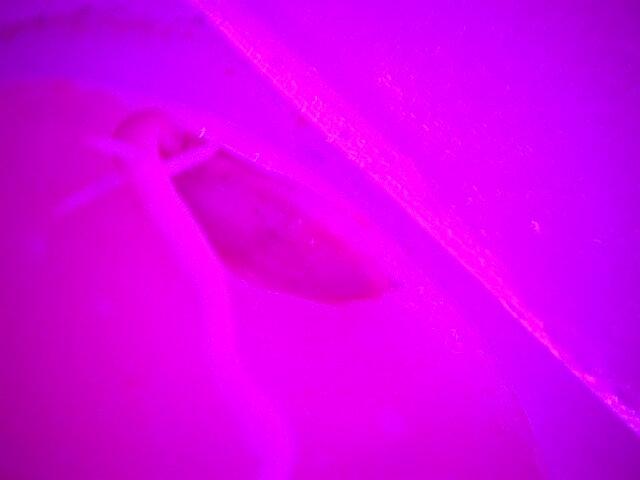sprout: (98, 110, 380, 473)
